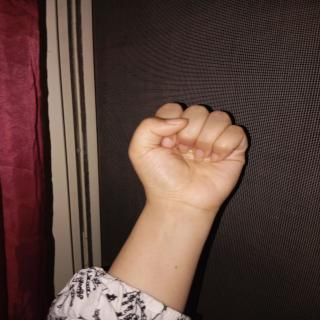SAD: (118, 86, 258, 221)
